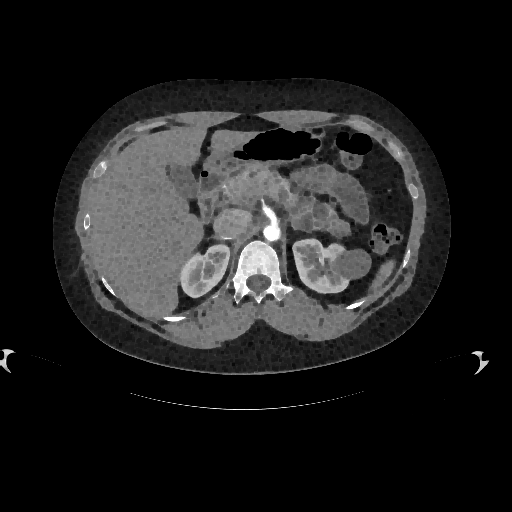Lesion: (332, 246, 374, 282)
